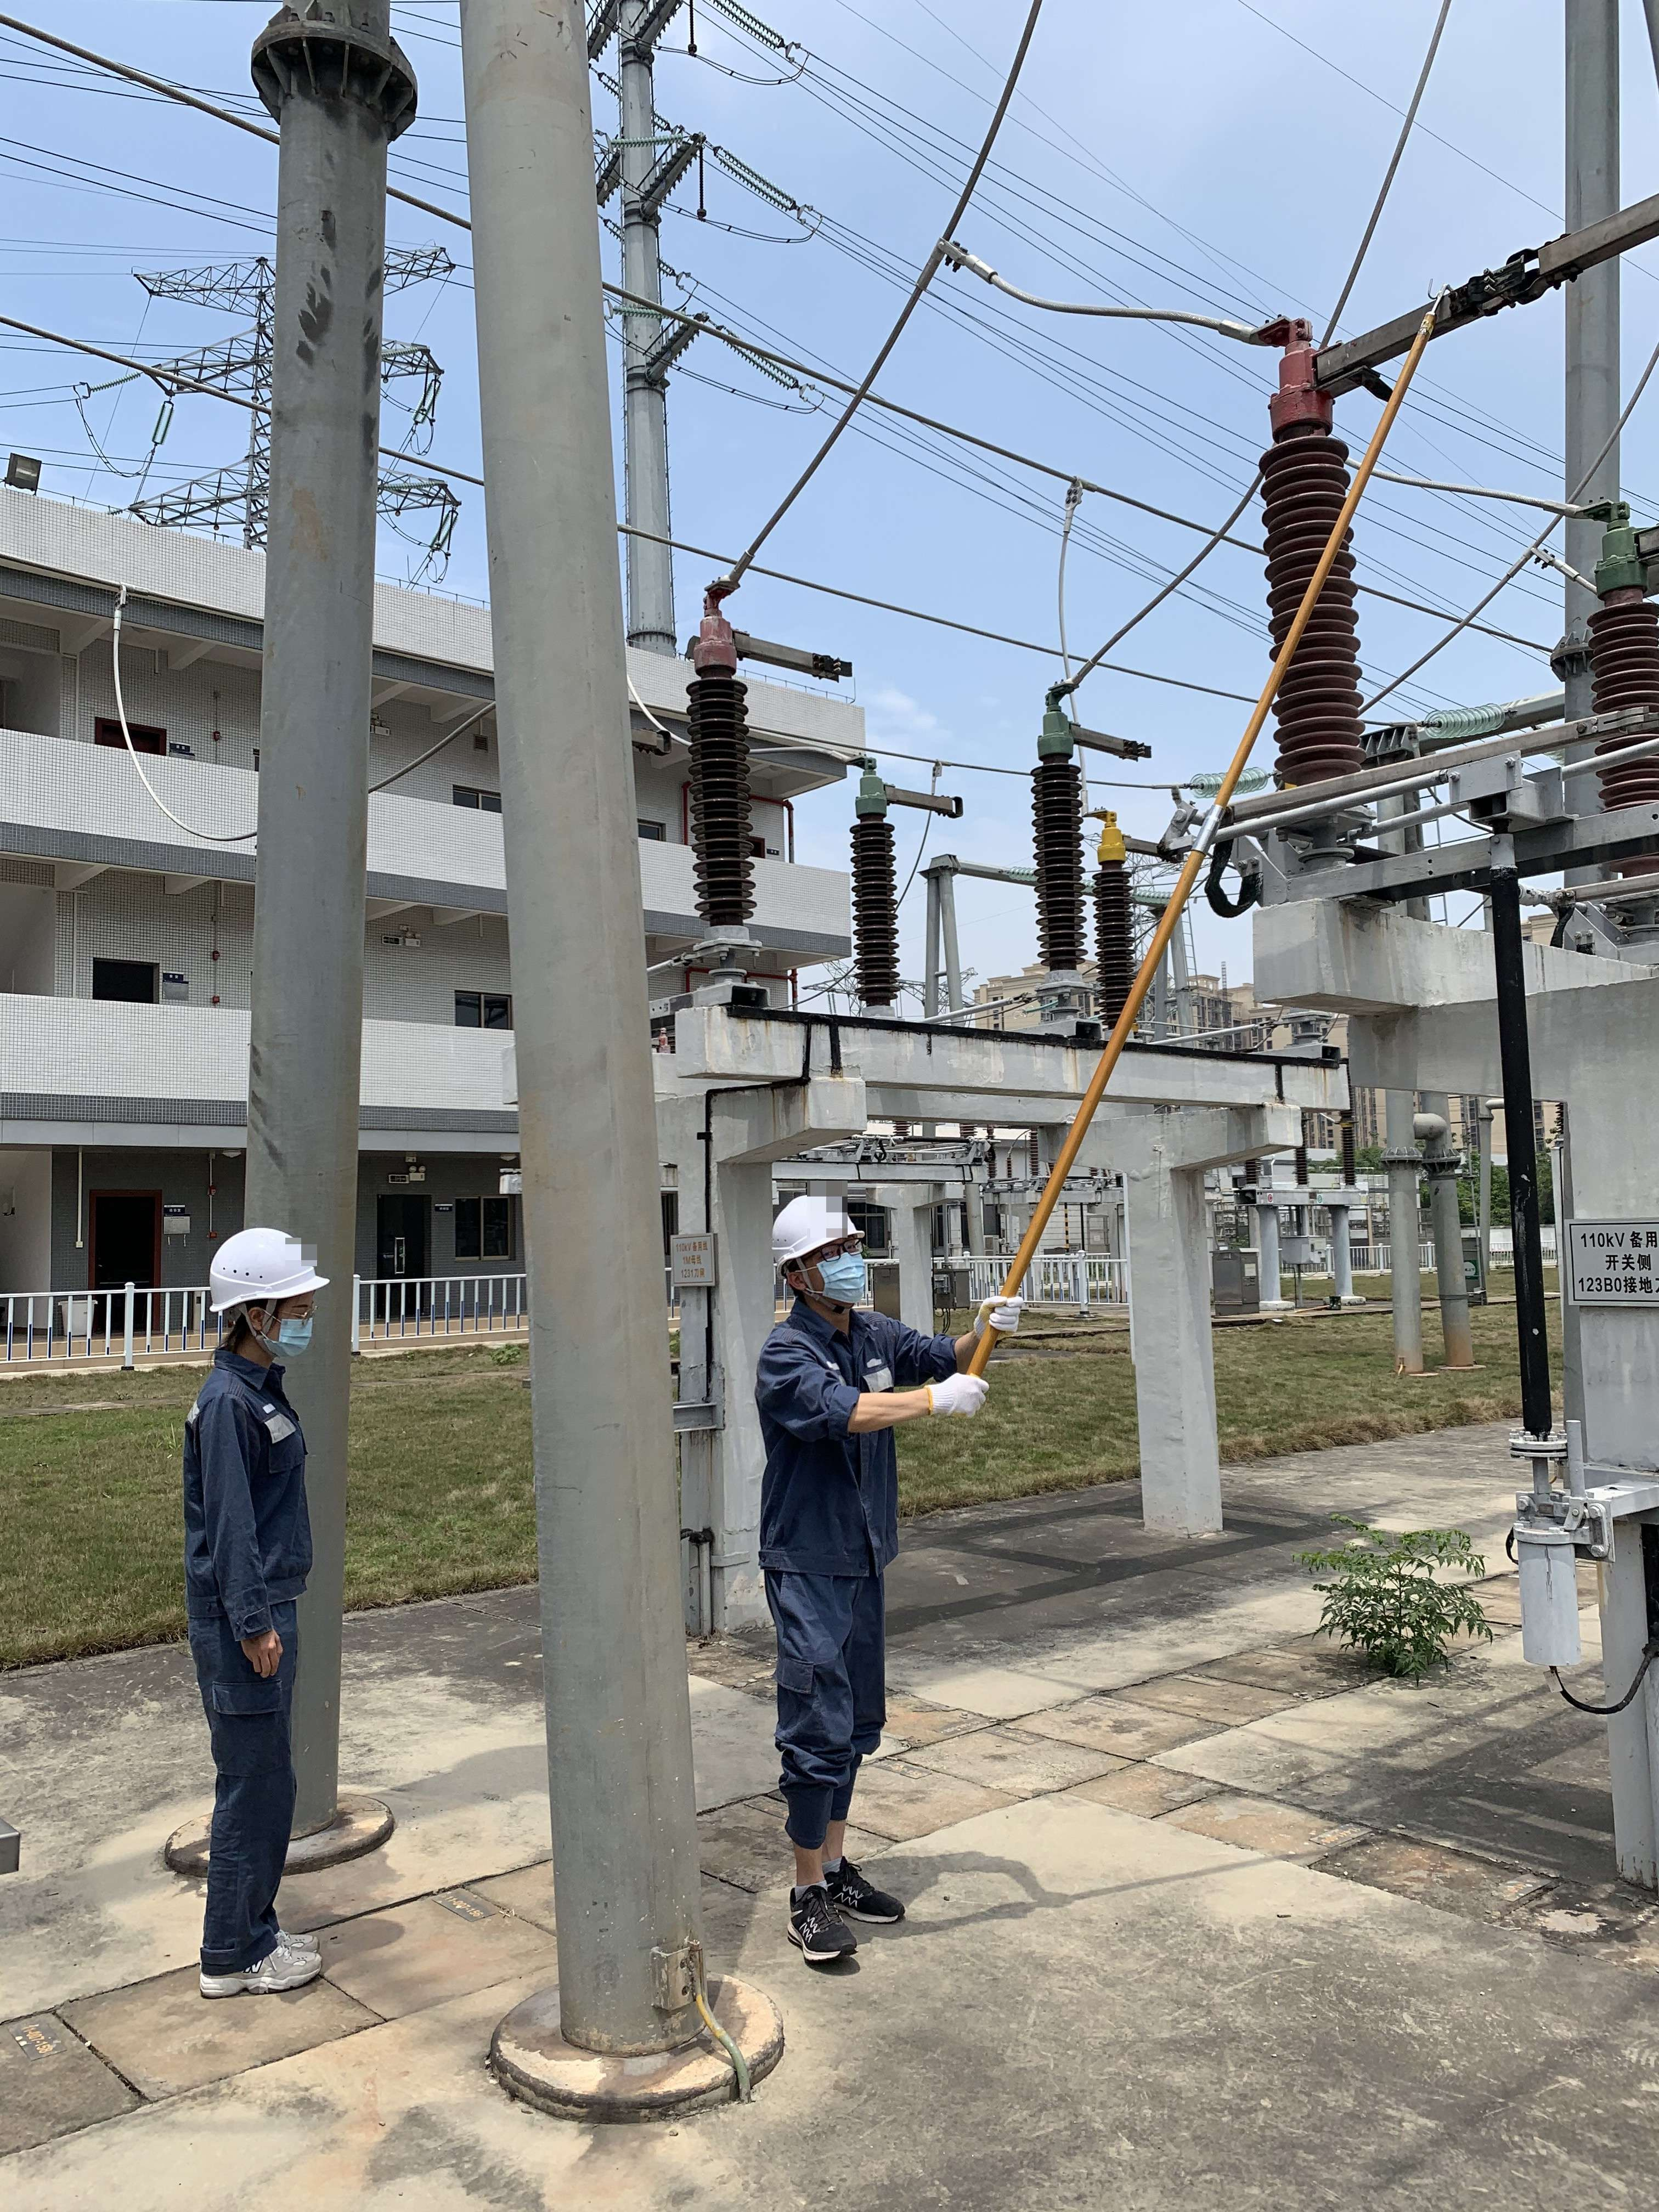downsuit: (185, 1627, 301, 1956), (767, 1587, 889, 1820)
upsuit: (756, 1322, 904, 1564), (186, 1372, 314, 1608)
wrongbottom: (779, 1797, 824, 1888)
wrongtop: (796, 1371, 924, 1437)
